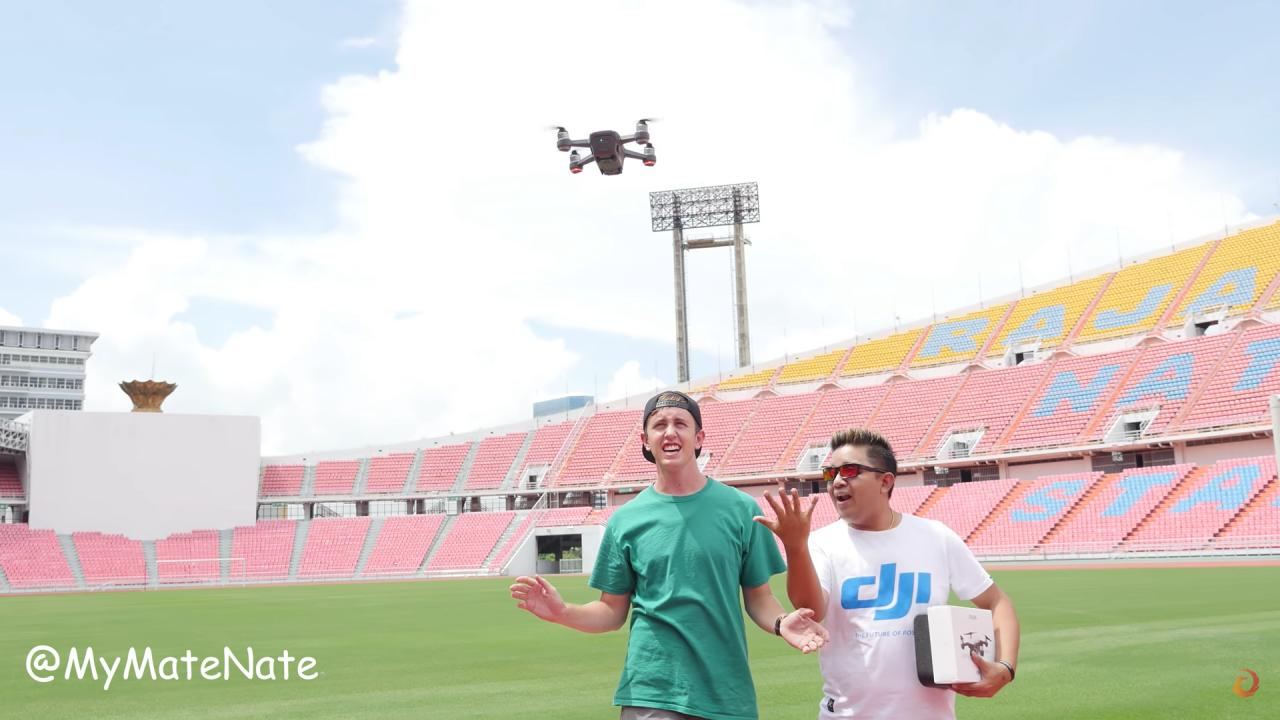Drone: (524, 102, 681, 188)
